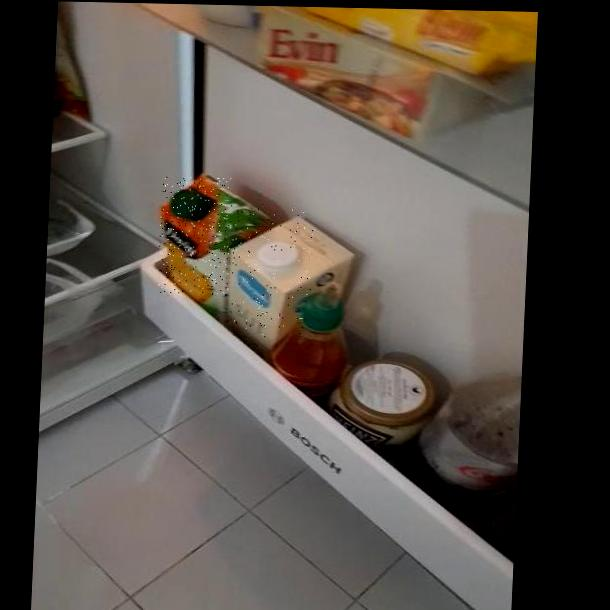juice: (157, 177, 233, 295)
milk: (228, 208, 314, 338)
